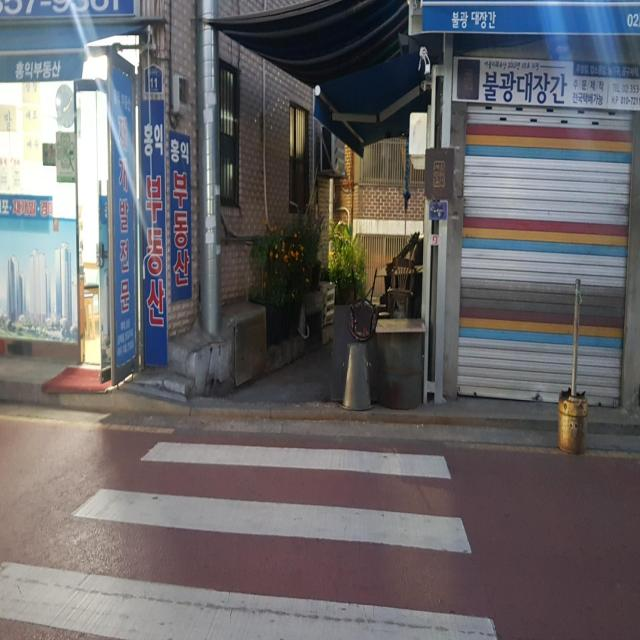횡단보도: (0, 438, 501, 640)
